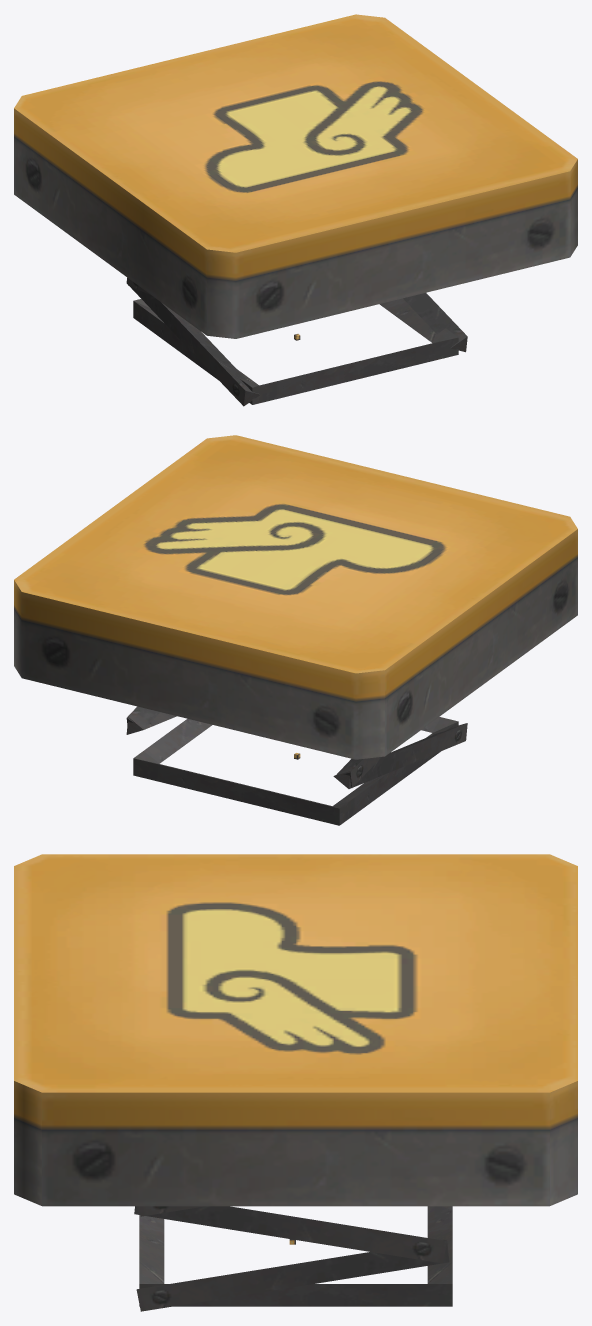
Rendered from trampoline_hor.obj.
3 renders of one model, top to bottom at view 1: azimuth 30°, elevation 25°; view 2: azimuth 150°, elevation 25°; view 3: azimuth 270°, elevation 25°, orthographic. The views are drawn at different scales.
Visible parts, largest first — view 1: trampoline; view 2: trampoline; view 3: trampoline.
Part boxes in pixels (x1,y1,x2,y2): trampoline: (14, 14, 577, 406); trampoline: (14, 435, 577, 825); trampoline: (14, 854, 577, 1311).
Bounding box in the file's own units: 0.9 × 0.475 × 0.9.
2 materials, 2 textured.
